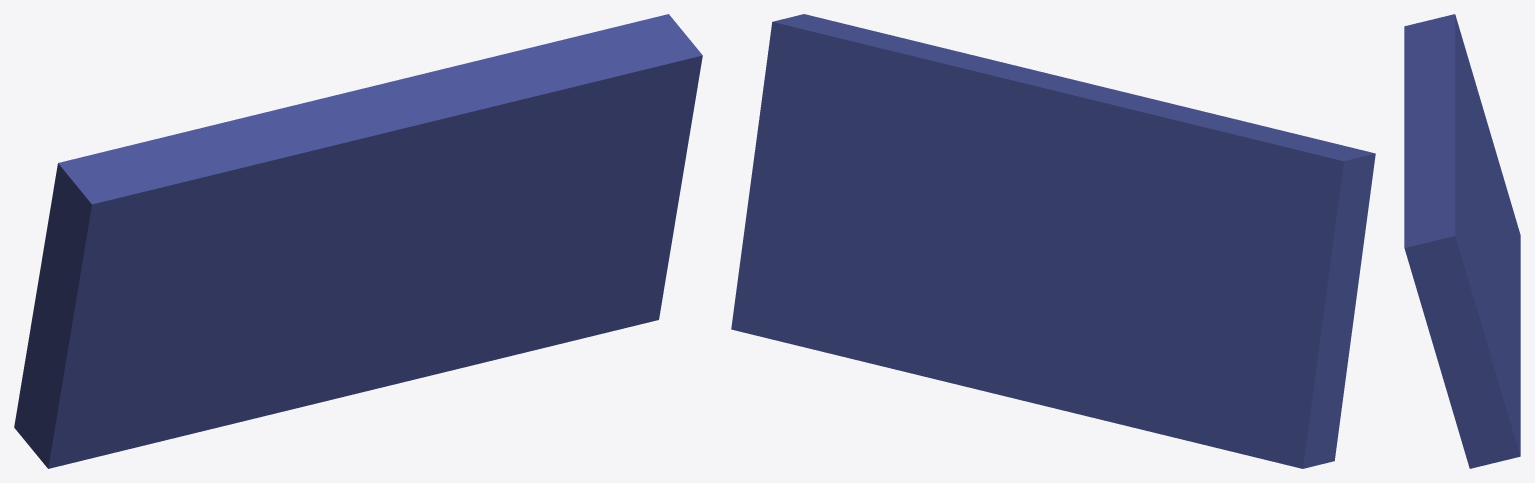
File: VL53L0X_Obstacle_Front.glb
The picture shows the model from 3 angles, left to right: view 1: azimuth 30°, elevation 25°; view 2: azimuth 150°, elevation 25°; view 3: azimuth 270°, elevation 25°; orthographic projection. The views are drawn at different scales.
Parts seen in each view (by area): view 1: VL53L0X_Obstacle_Front; view 2: VL53L0X_Obstacle_Front; view 3: VL53L0X_Obstacle_Front.
Part boxes in pixels (box(x1,y1,x2,y2)): VL53L0X_Obstacle_Front: box(14, 14, 702, 468); VL53L0X_Obstacle_Front: box(731, 14, 1375, 468); VL53L0X_Obstacle_Front: box(1404, 14, 1520, 468).
Bounding box in the file's own units: 25 × 12.25 × 5.52.
